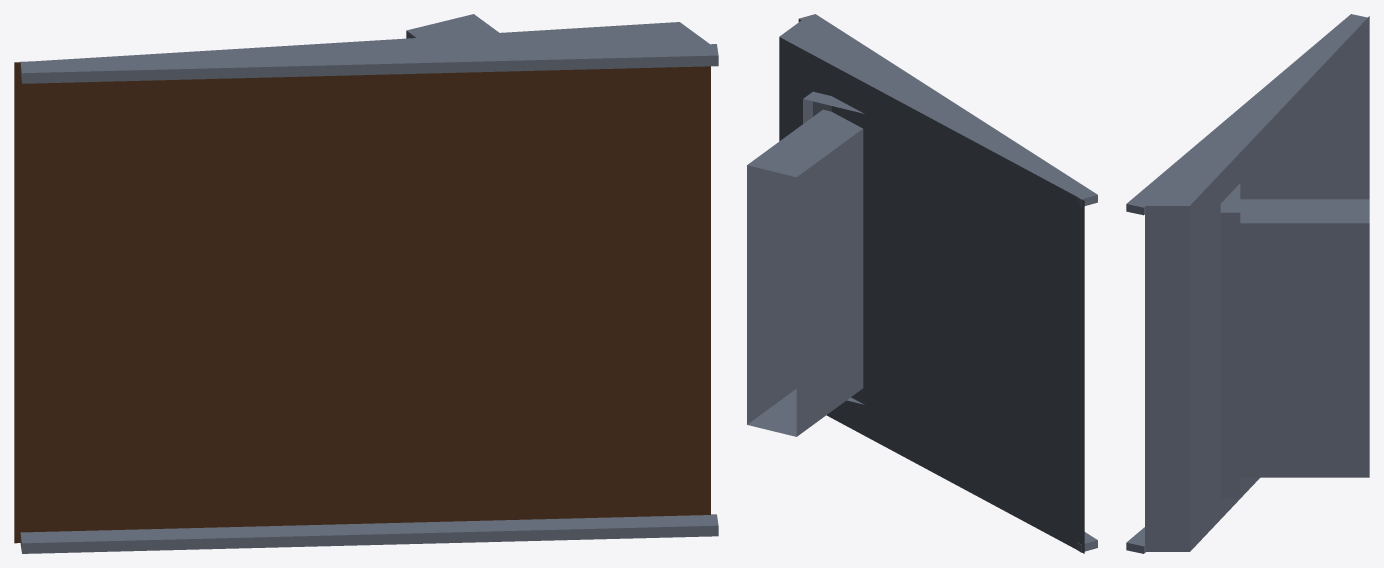
The model's file is ramp.glb.
3 views of the same model, side by side, from view 1: azimuth 30°, elevation 25°; view 2: azimuth 150°, elevation 25°; view 3: azimuth 270°, elevation 25° (orthographic). The views are drawn at different scales.
Visible parts, largest first — view 1: bridge_03_ramp; view 2: bridge_03_ramp; view 3: bridge_03_ramp.
Part boxes in pixels (<box>): bridge_03_ramp: <box>14,14,718,553</box>; bridge_03_ramp: <box>747,14,1097,553</box>; bridge_03_ramp: <box>1126,14,1369,553</box>.
Bounding box in the file's own units: 16.31 × 13.6 × 8.66.
